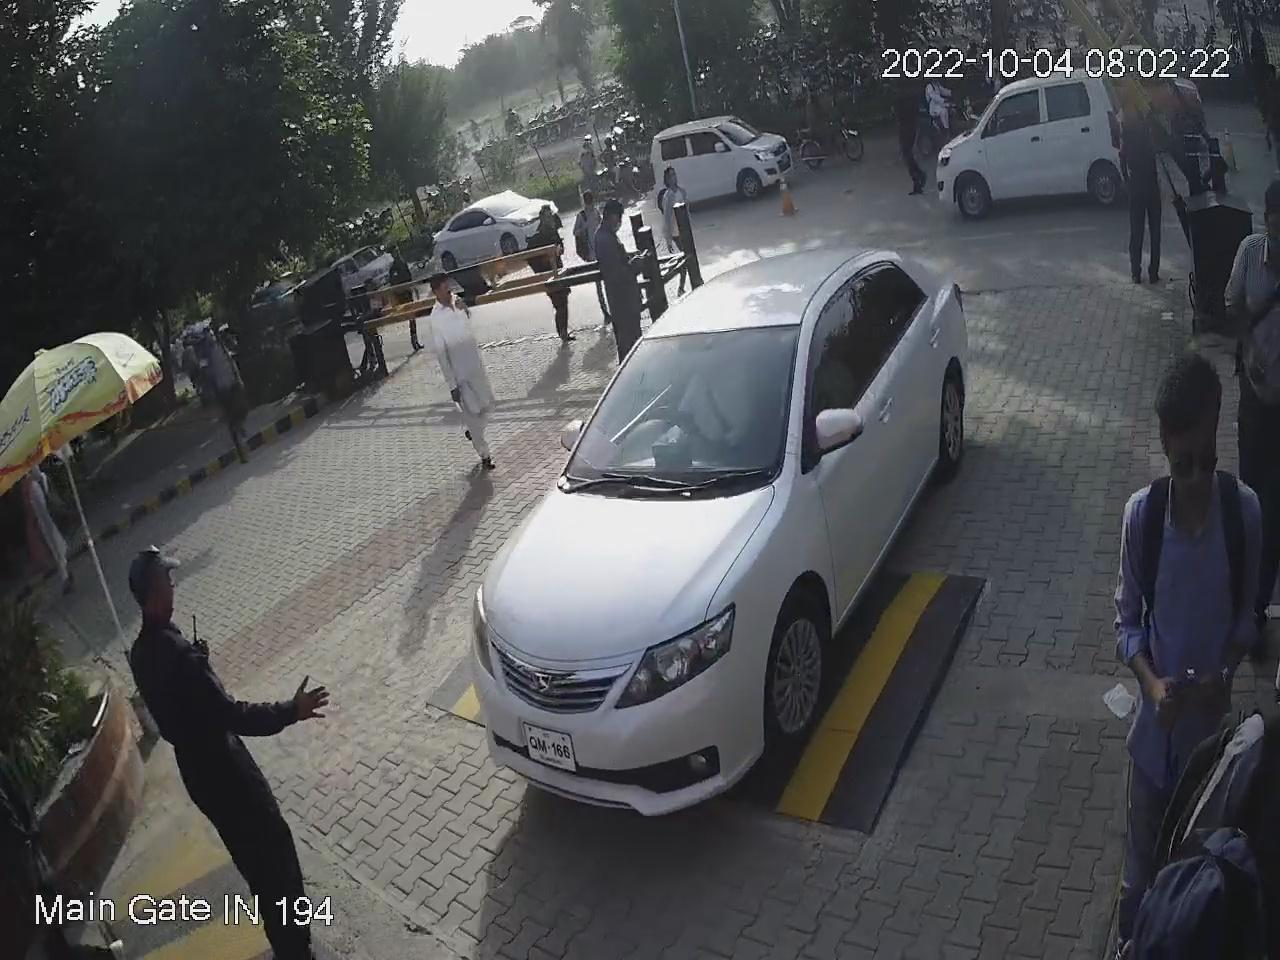windshield: (548, 318, 808, 490)
